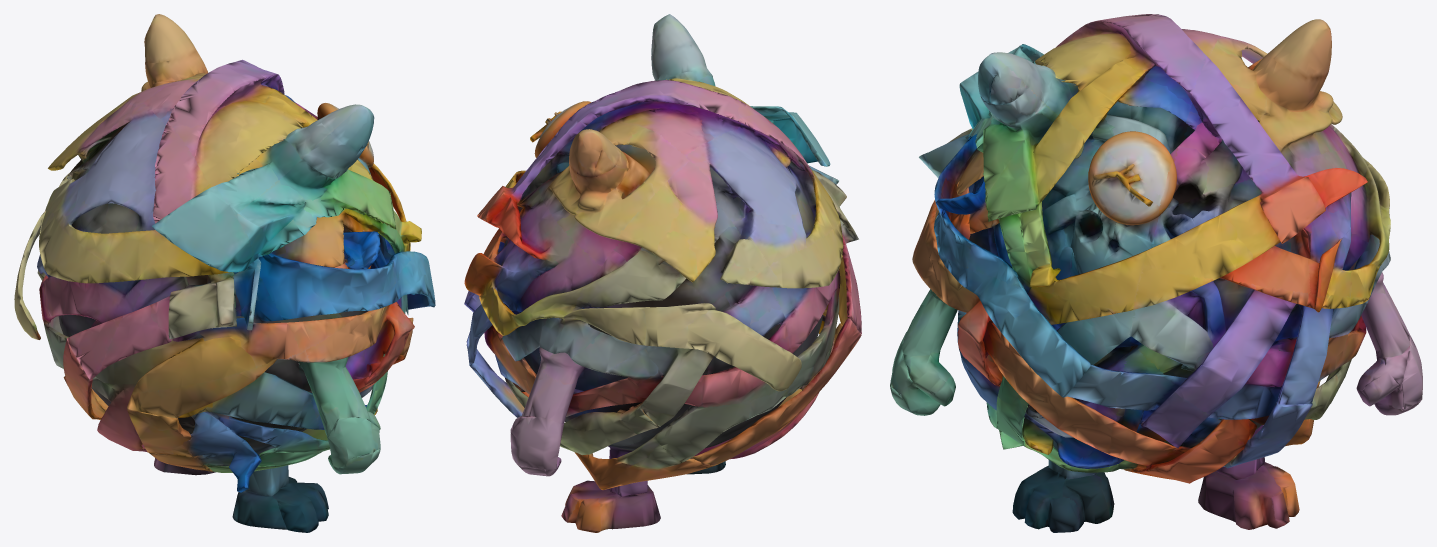
The model's file is boss_sentence_monster.glb.
3 views of the same model, side by side, from view 1: azimuth 30°, elevation 25°; view 2: azimuth 150°, elevation 25°; view 3: azimuth 270°, elevation 25° (orthographic). The views are drawn at different scales.
Visible parts, largest first — view 1: tripo_node_11e354df-3ef8-4d30-9d5b-c31f60f04e5e; view 2: tripo_node_11e354df-3ef8-4d30-9d5b-c31f60f04e5e; view 3: tripo_node_11e354df-3ef8-4d30-9d5b-c31f60f04e5e.
Boxes of the visible parts, box(x1,y1,x2,y2) form: tripo_node_11e354df-3ef8-4d30-9d5b-c31f60f04e5e: box(14, 14, 435, 532); tripo_node_11e354df-3ef8-4d30-9d5b-c31f60f04e5e: box(464, 14, 861, 532); tripo_node_11e354df-3ef8-4d30-9d5b-c31f60f04e5e: box(890, 14, 1422, 532).
Size of the model in its own units: 0.8615 by 1 by 0.9942.
Materials: 1 (1 with a texture image).
